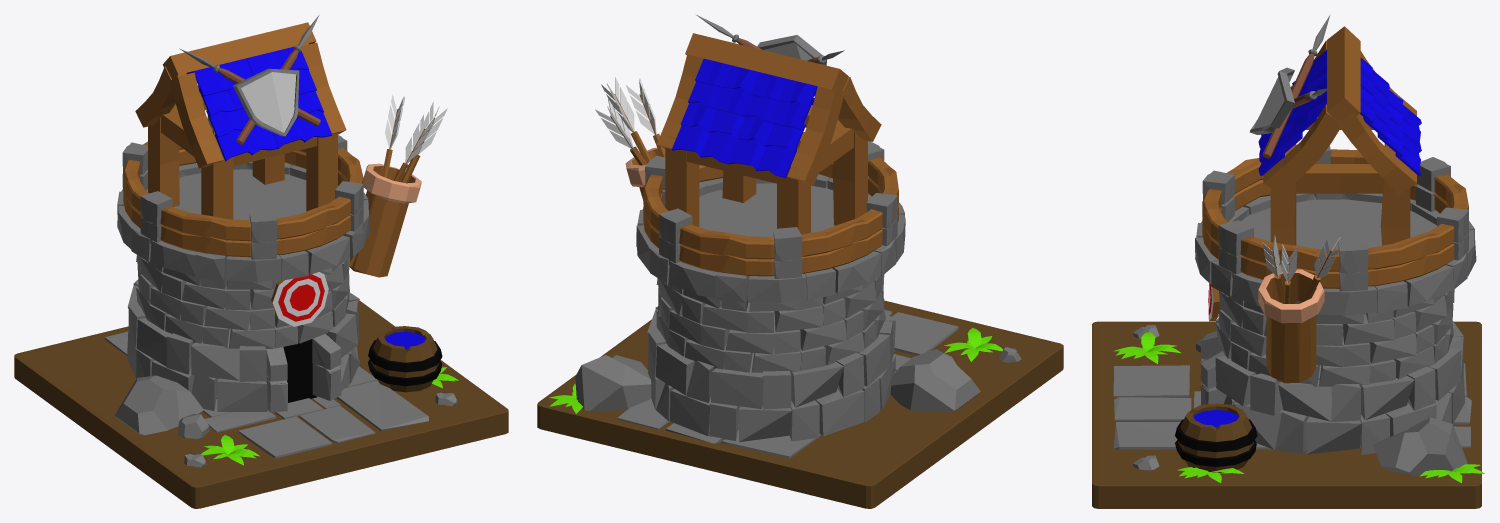
Rendered from Bogenschützenturm.fbx.
3 renders of one model, left to right at view 1: azimuth 30°, elevation 25°; view 2: azimuth 150°, elevation 25°; view 3: azimuth 270°, elevation 25°, orthographic. The views are drawn at different scales.
Parts seen in each view (by area): view 1: Erde; view 2: Erde; view 3: Erde.
Part boxes in pixels (left/top/right/bottom): Erde: left=14, top=15, right=508, bottom=508; Erde: left=537, top=15, right=1063, bottom=508; Erde: left=1092, top=14, right=1484, bottom=508.
Size of the model in its own units: 327 by 324 by 303.
